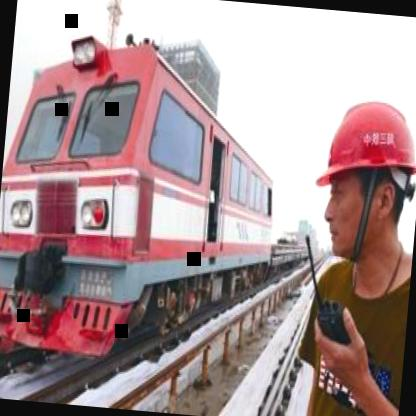helmet: (302, 76, 416, 282)
